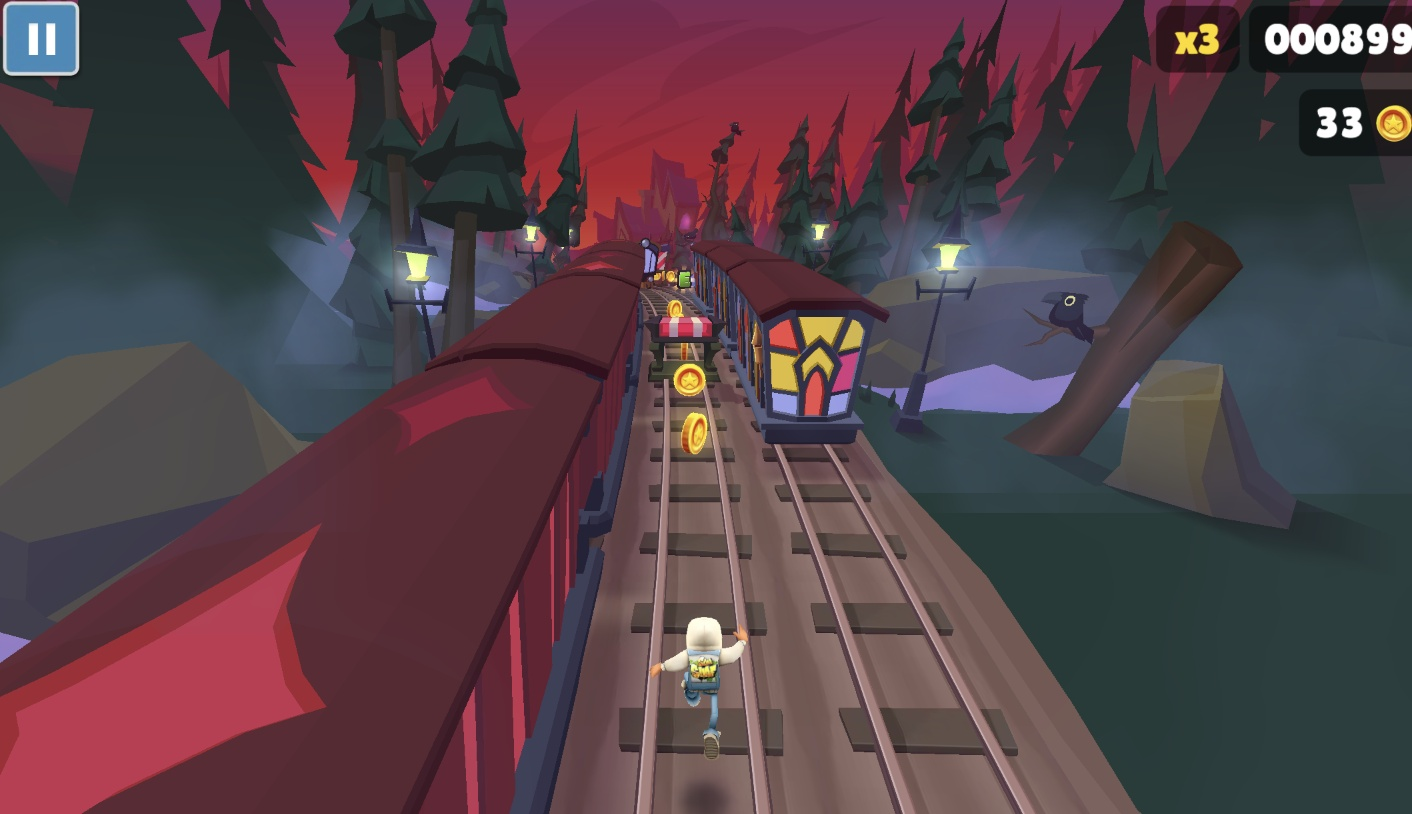ground_barrier: (645, 316, 723, 379)
overhead_barrier: (656, 245, 670, 272)
train: (31, 241, 649, 814), (689, 241, 888, 444), (637, 239, 672, 277)
